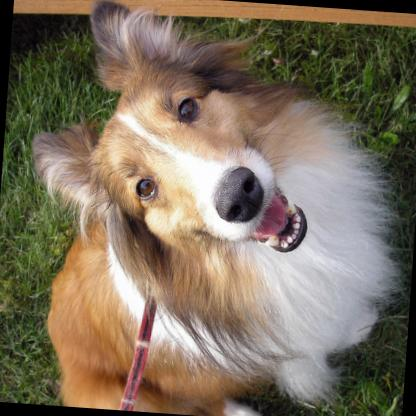Shetland_sheepdog: (13, 0, 416, 416)
